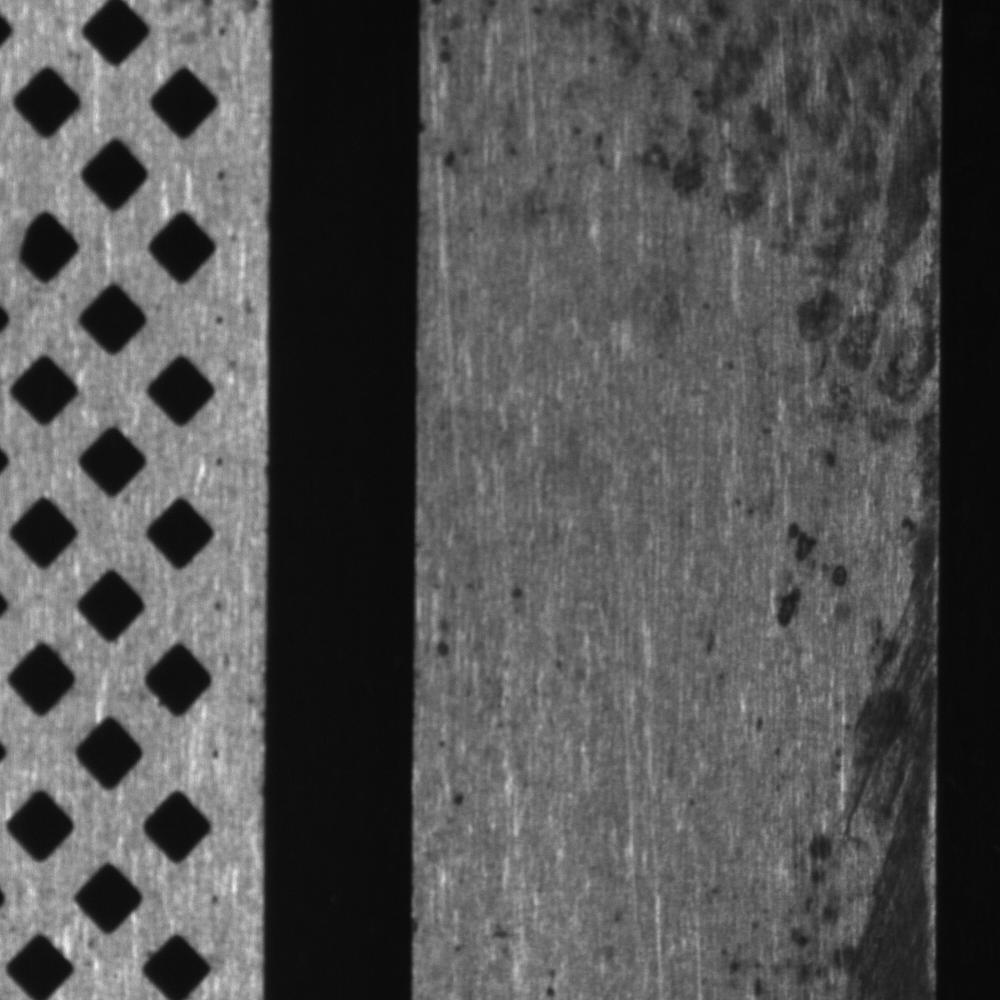Discolor: (598, 1, 935, 225), (780, 235, 939, 456), (851, 684, 936, 994), (755, 832, 843, 996), (871, 461, 936, 682), (769, 511, 854, 639)
Etching: (422, 1, 585, 228), (473, 913, 568, 999), (421, 570, 479, 668)
